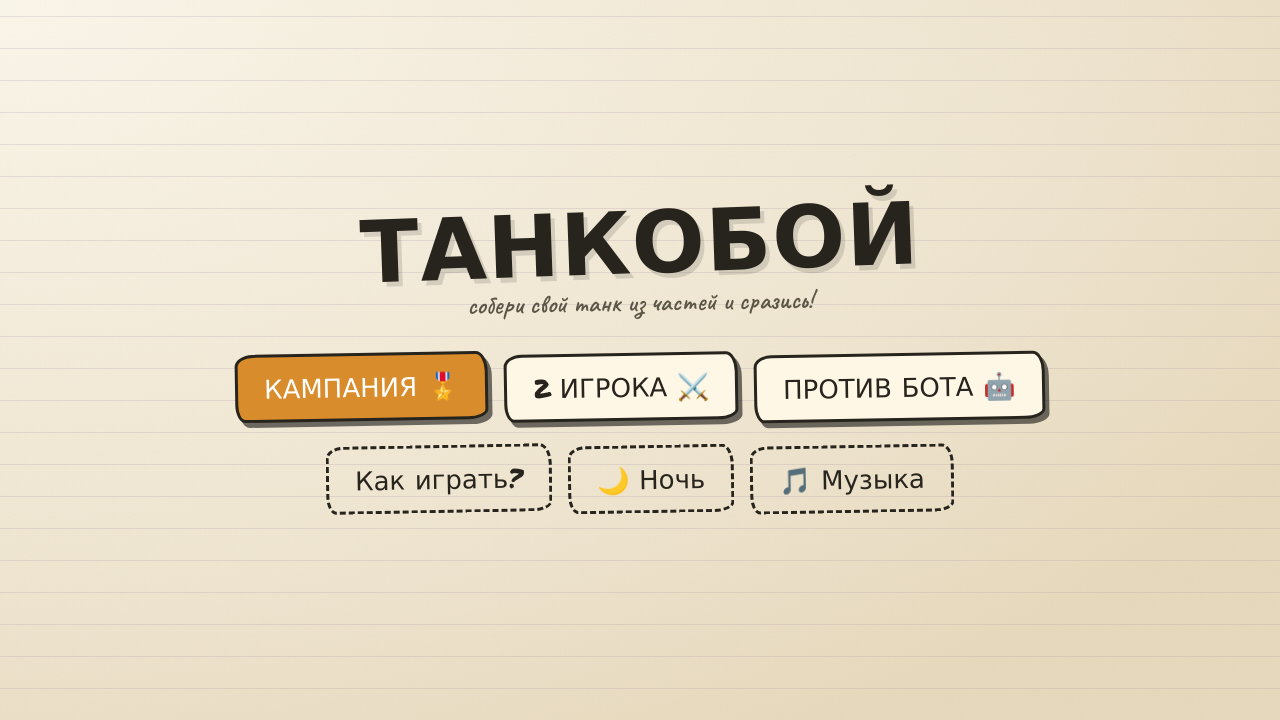
Test: UI: титульный экран › «2 игрока» открывает конструктор первого игрока
The image size is (1280, 720).
Expected: the element with test id "screen-title" is shown, [234,168,1046,515]
Click the button with test id "btn-start-versus".
click(621, 387)  # box [504,351,739,423]
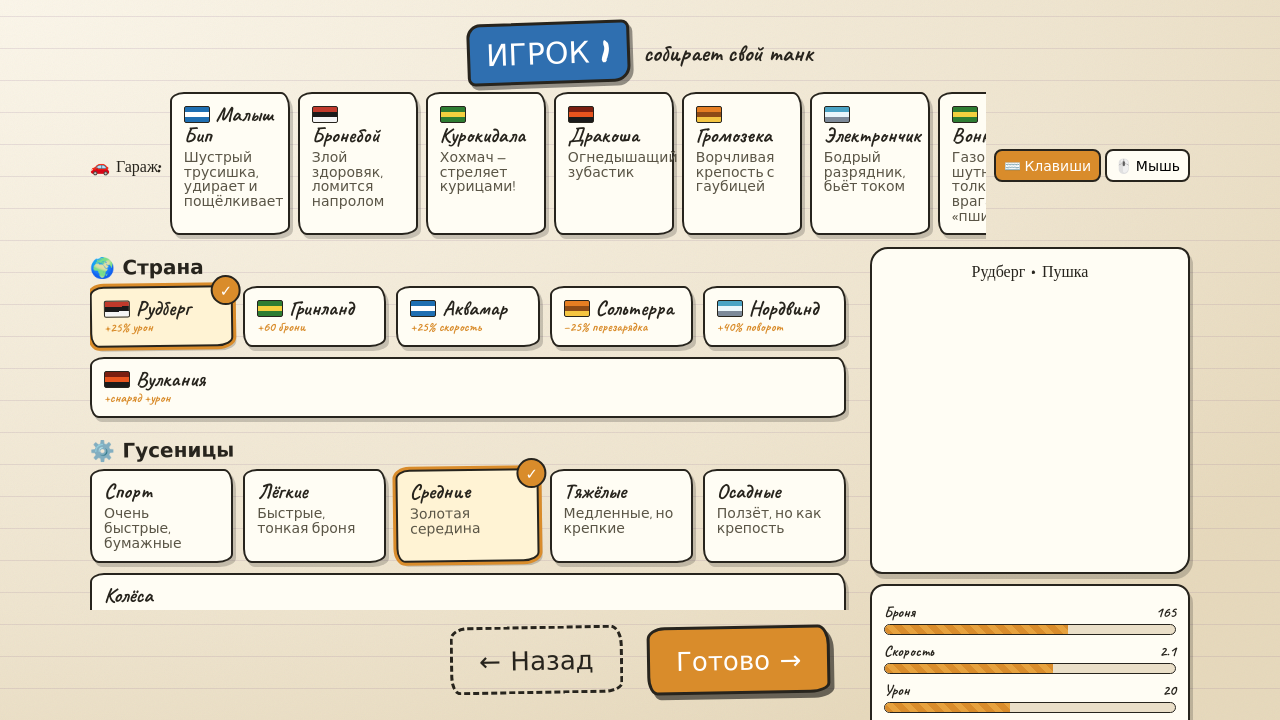
Result: the element with test id "screen-build" is shown
Result: the text with test id "pl-badge" reads "ИГРОК 1" at [466,19,630,87]
